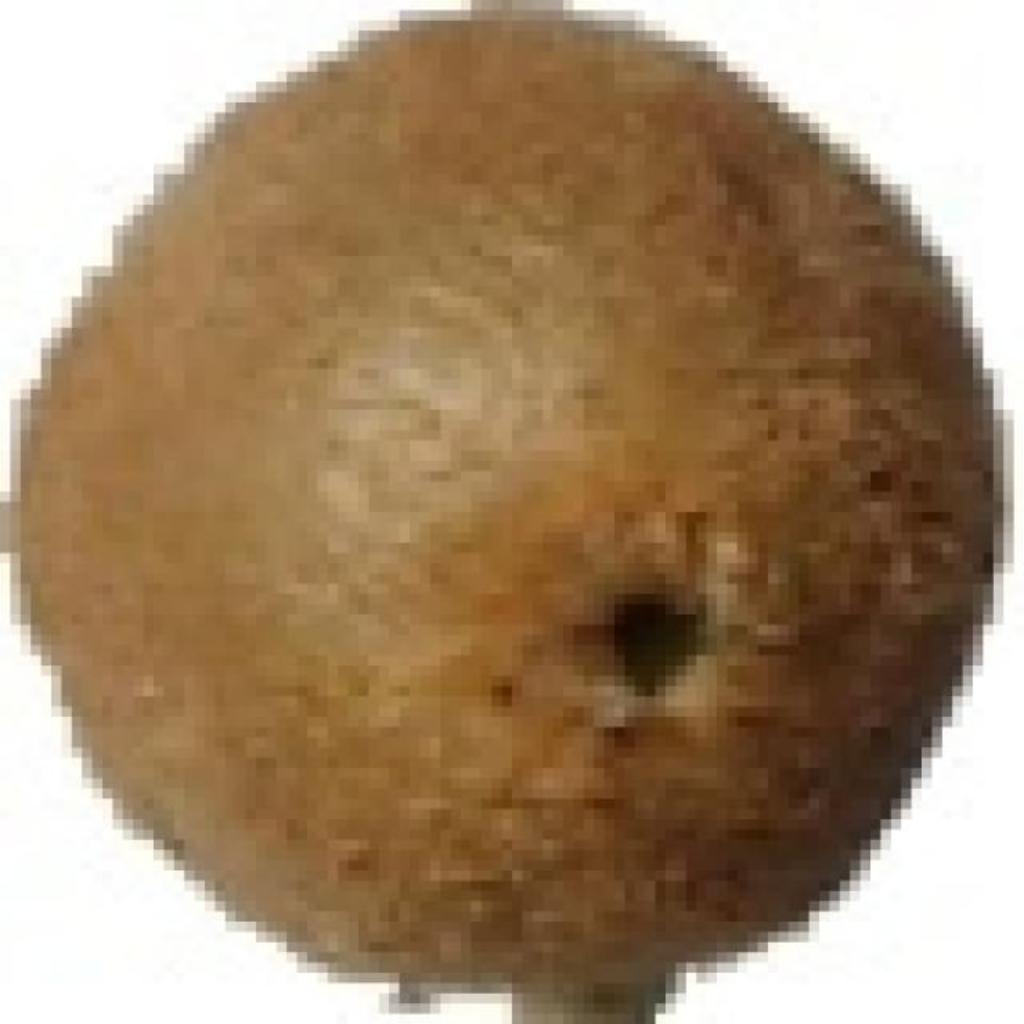kiwi: (23, 16, 994, 1017)
